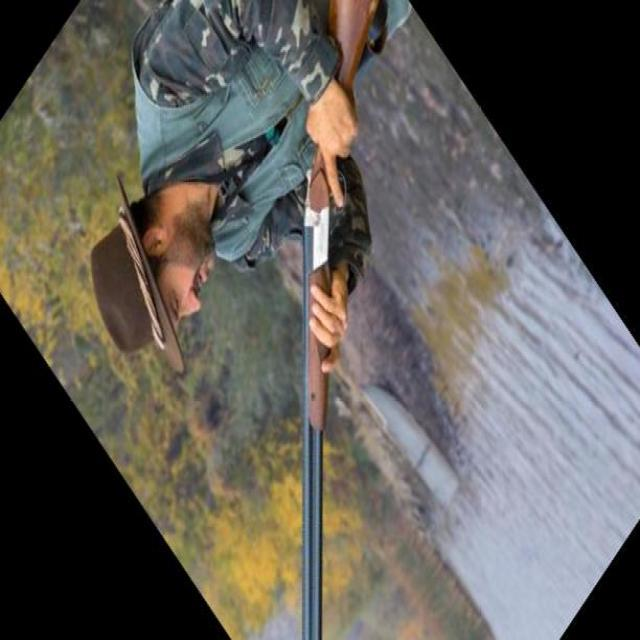weapon: (301, 0, 380, 640)
